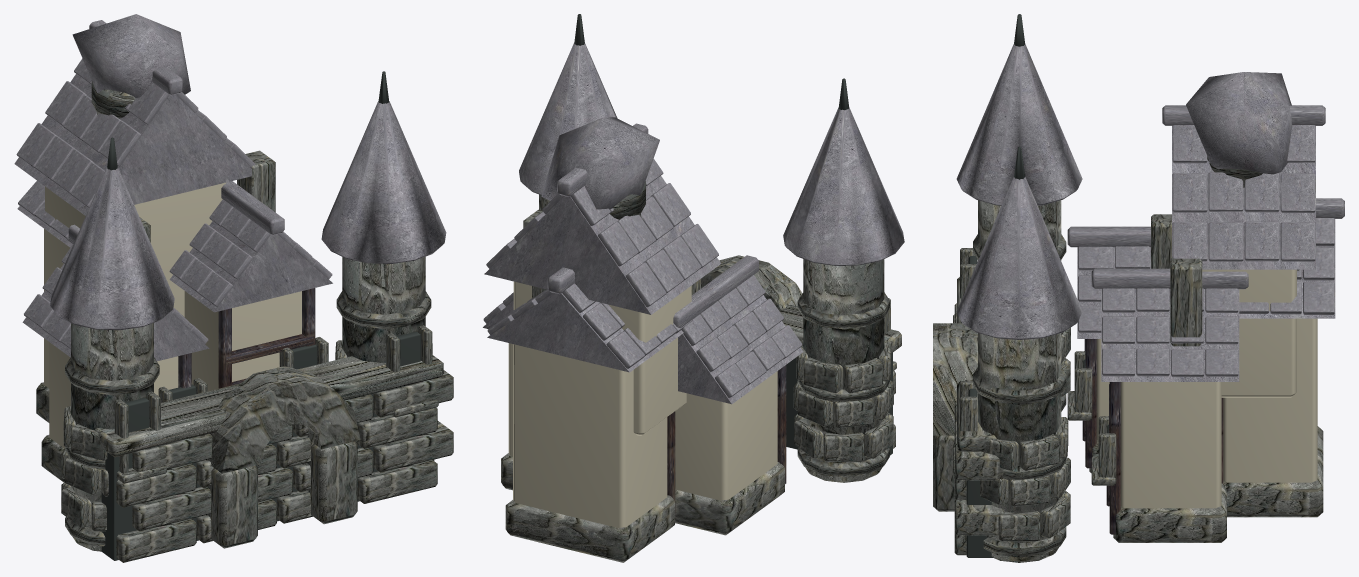
The model's file is env-site-city2-mobile.glb.
3 renders of one model, left to right at view 1: azimuth 30°, elevation 25°; view 2: azimuth 150°, elevation 25°; view 3: azimuth 270°, elevation 25°, orthographic. The views are drawn at different scales.
Visible parts, largest first — view 1: site city2 · authored textured miniature; view 2: site city2 · authored textured miniature; view 3: site city2 · authored textured miniature.
Boxes of the visible parts, x1,y1,x2,y2 form: site city2 · authored textured miniature: (14,14,453,562); site city2 · authored textured miniature: (483,14,904,562); site city2 · authored textured miniature: (933,14,1344,562).
Size of the model in its own units: 1.37 by 1.44 by 1.28.
Materials: 5 (3 with a texture image).
